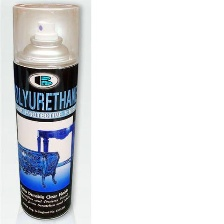aerosol_cans: (9, 1, 82, 221)
